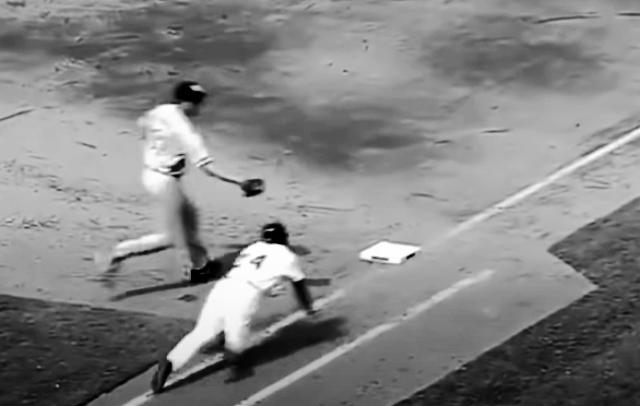jatuh: (148, 212, 336, 392)
